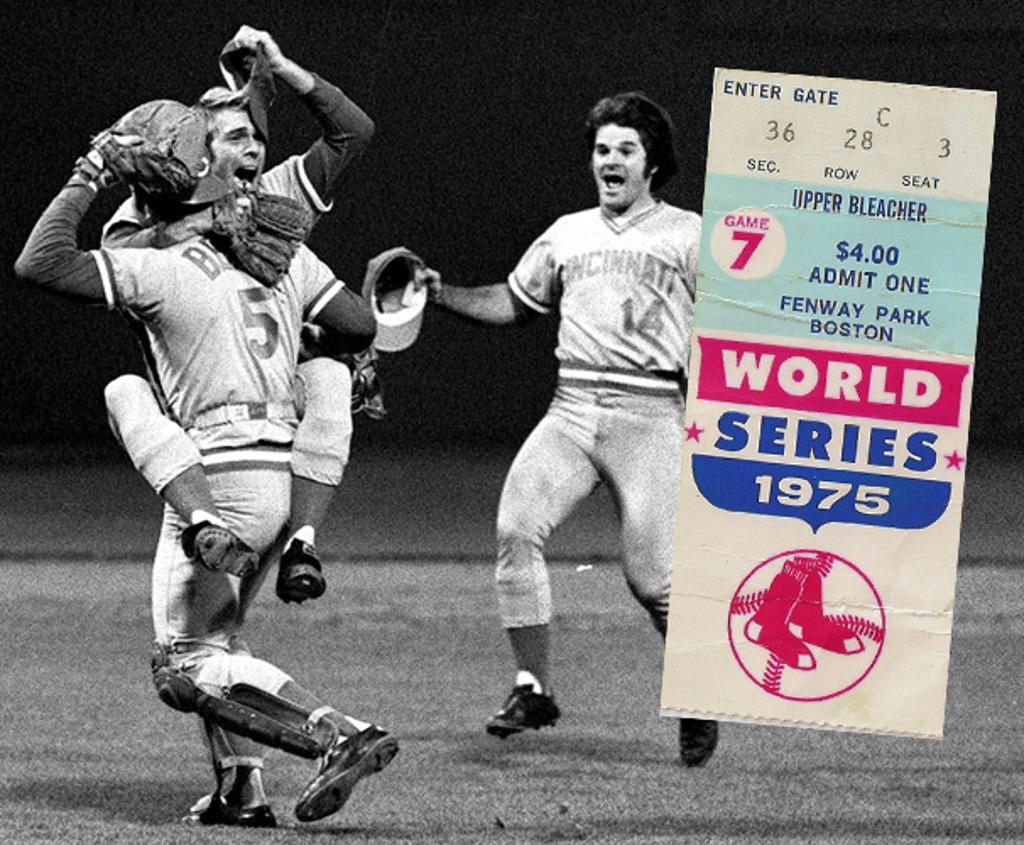face: (210, 110, 270, 200), (588, 126, 644, 210)
